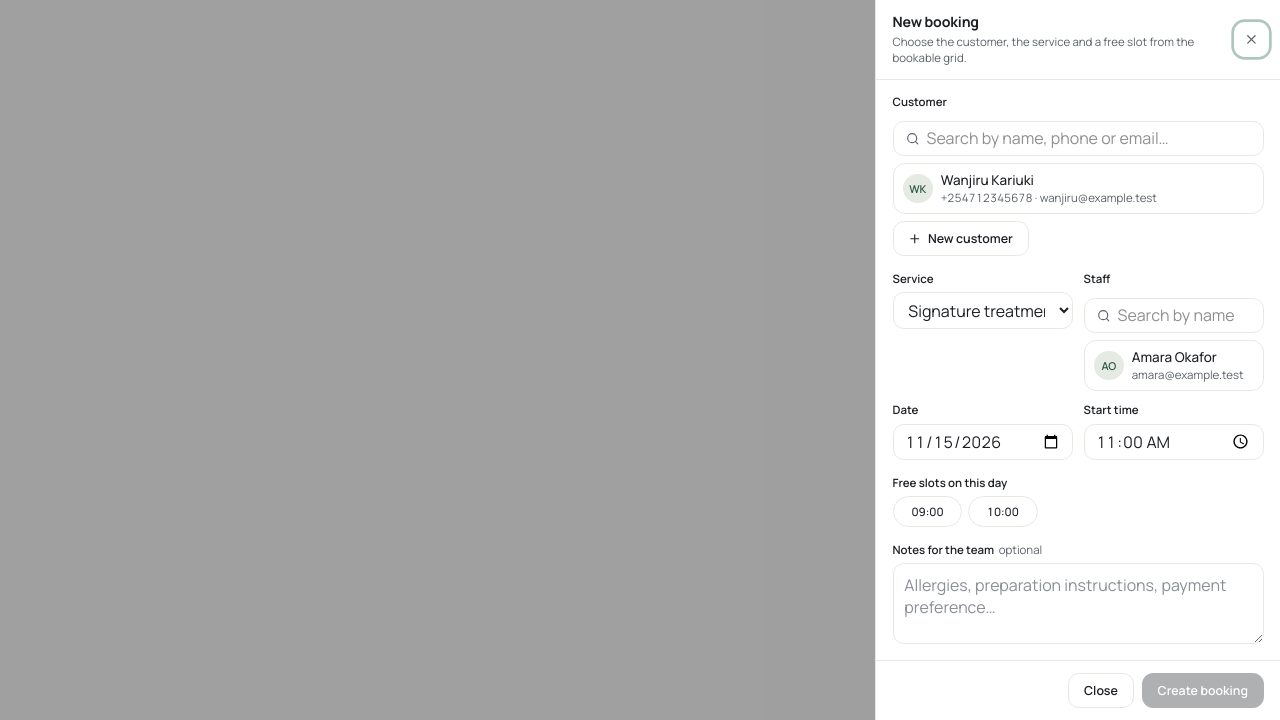
Test: AppointmentBookingForm › refuses to submit until a customer is chosen
The width and height of the screenshot is (1280, 720).
expect the button "Create booking" is disabled: met, box x1=1142 y1=673 x2=1264 y2=708
Click the option "WK Wanjiru Kariuki +254712345678 · wanjiru@example.test". click: (1078, 188)
box: x1=894 y1=164 x2=1263 y2=213
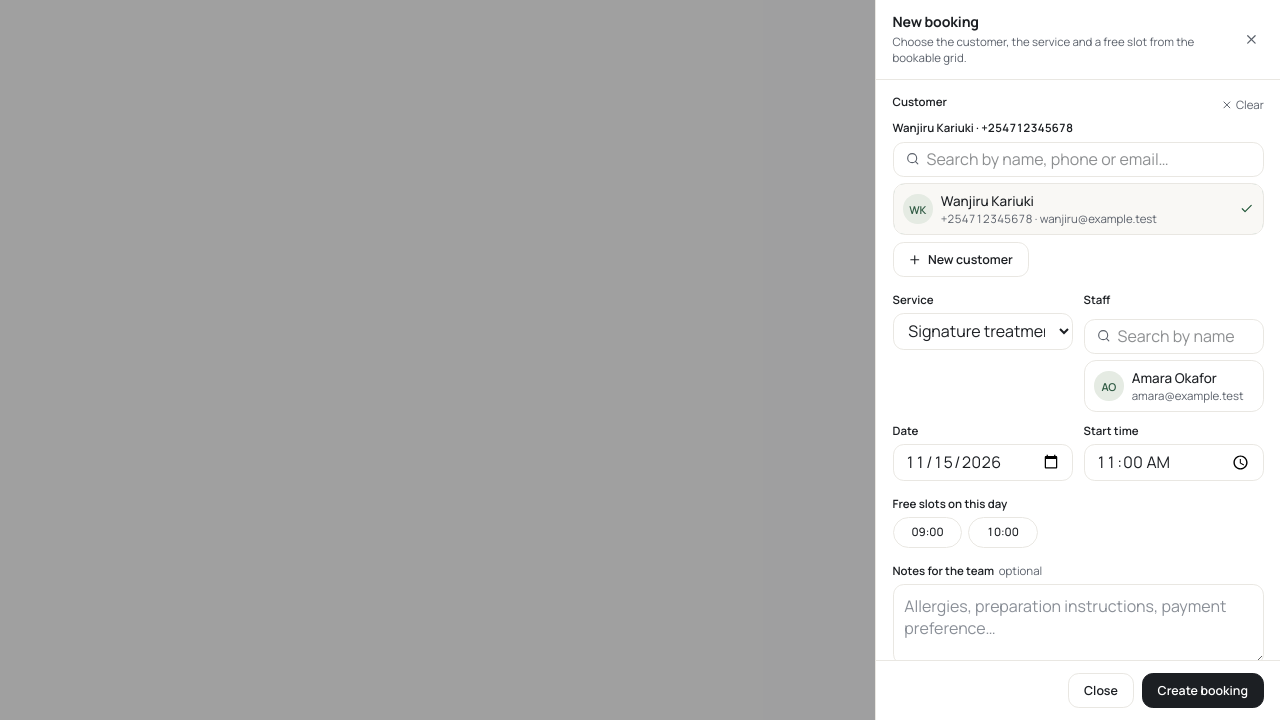
expect the button "Create booking" is enabled: met, box x1=1142 y1=673 x2=1264 y2=708
